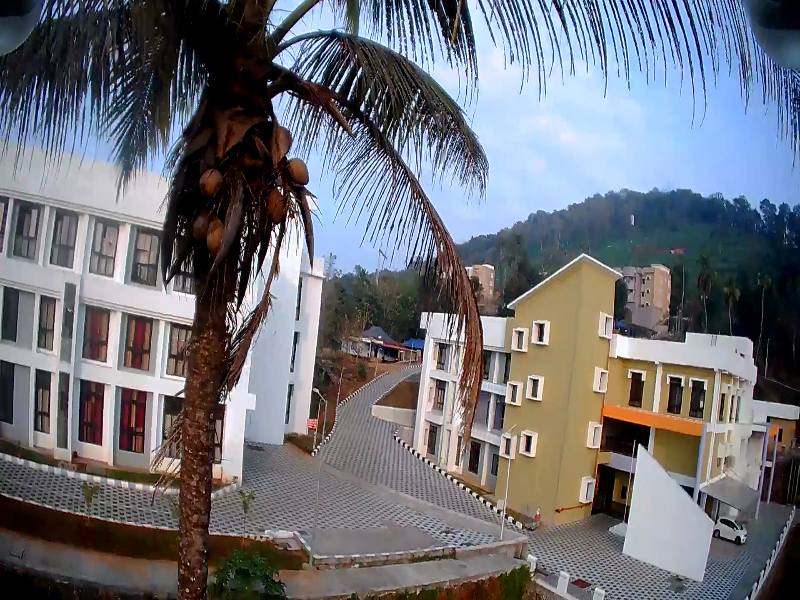coconut: (199, 169, 225, 201), (285, 156, 311, 187), (205, 218, 224, 254), (267, 184, 283, 223), (195, 213, 206, 239)
